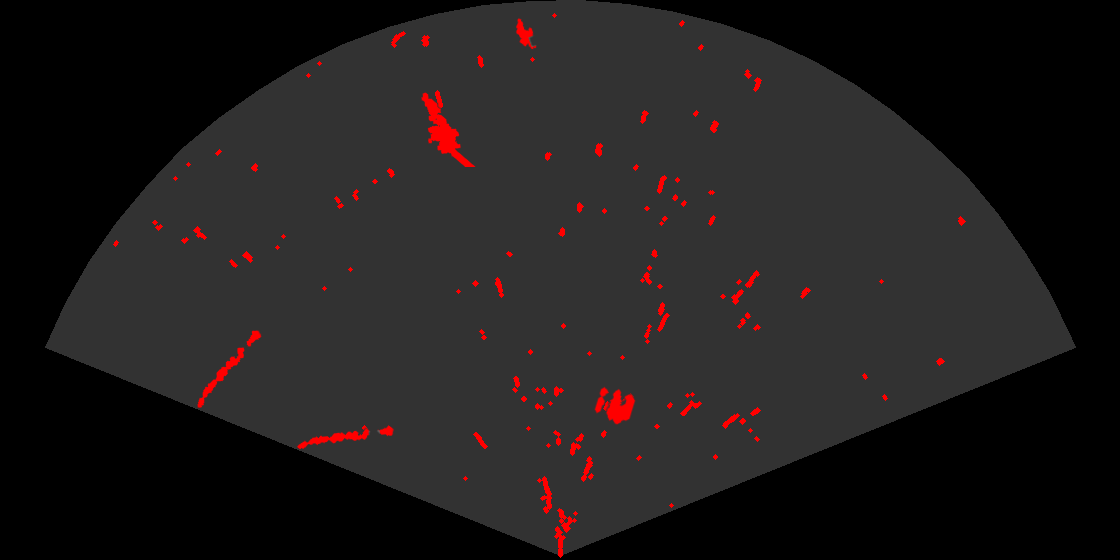AUV: (514, 17, 538, 51)
ball: (593, 385, 637, 426)
chain: (196, 329, 263, 409), (295, 424, 396, 451)
frogman: (420, 91, 477, 167)
